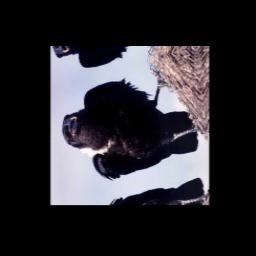Crow: (57, 55, 204, 196)
